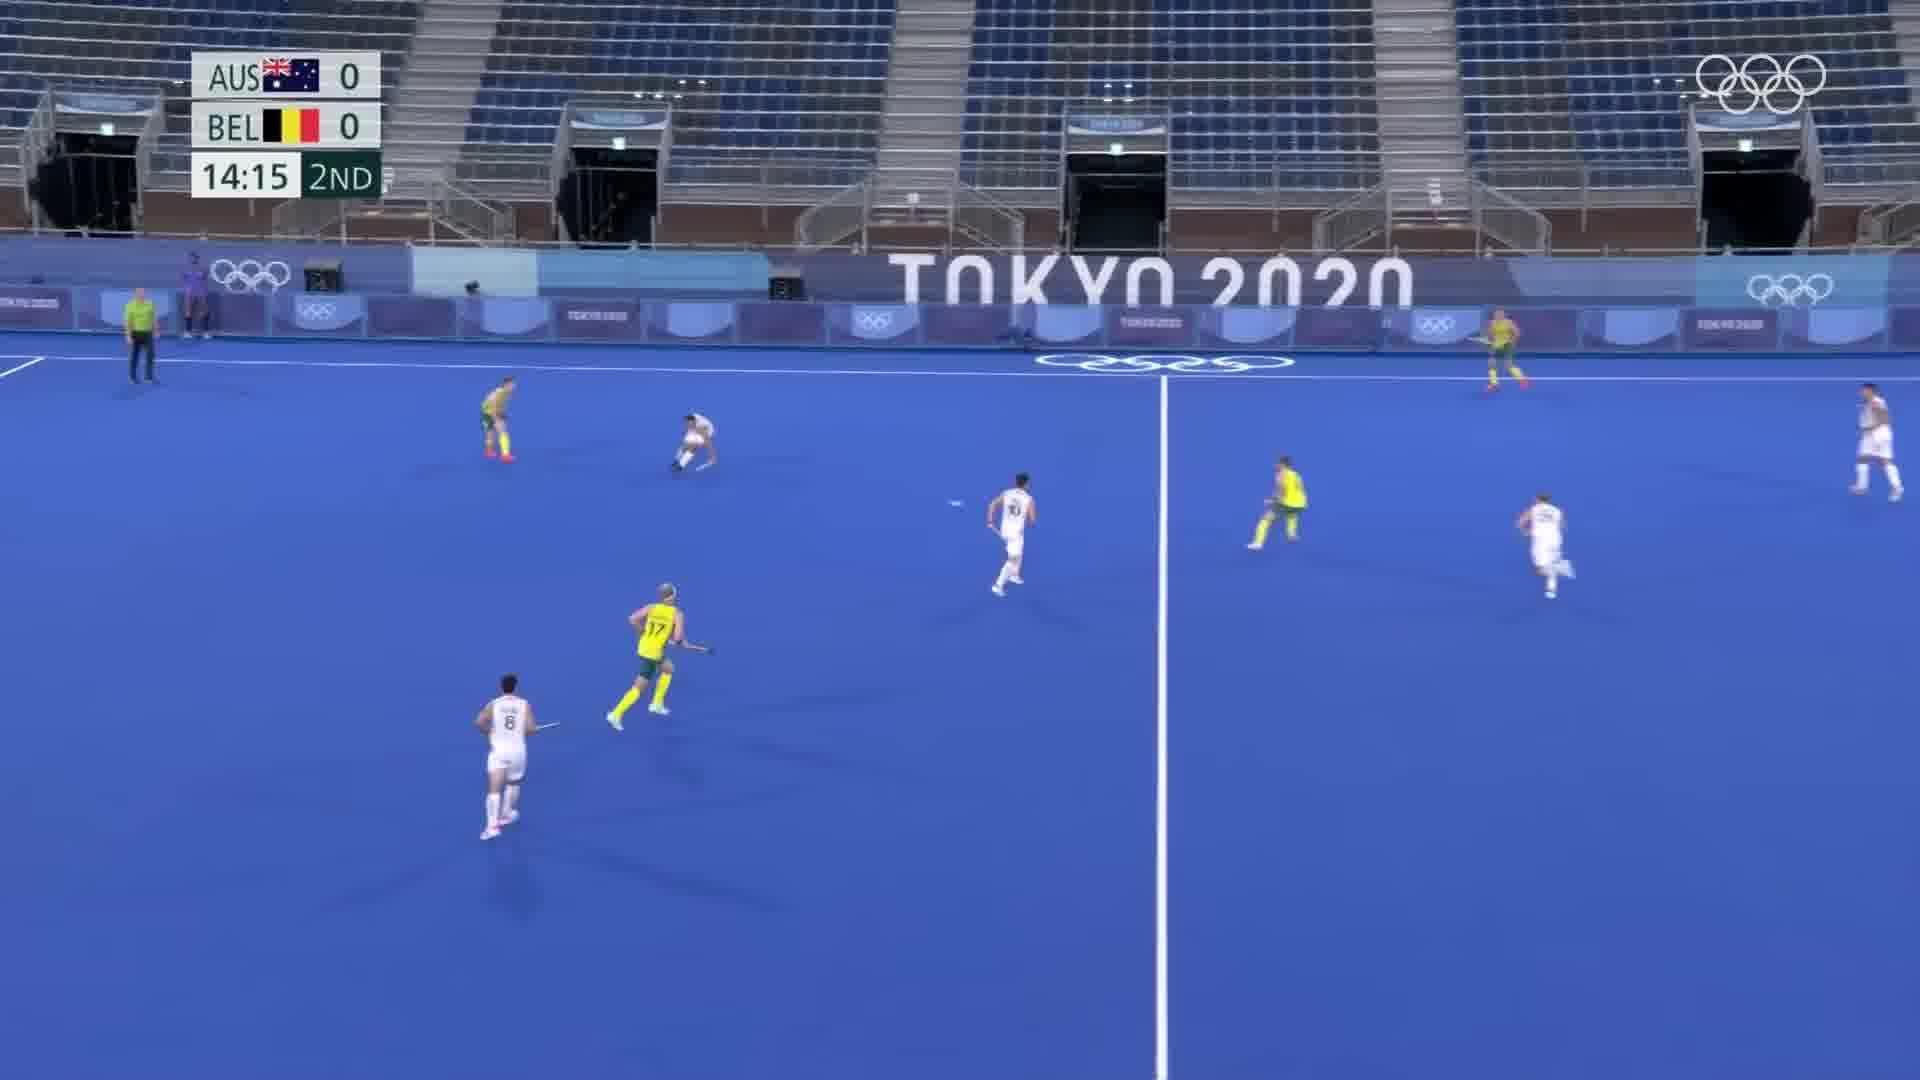ball: (947, 496, 963, 509)
